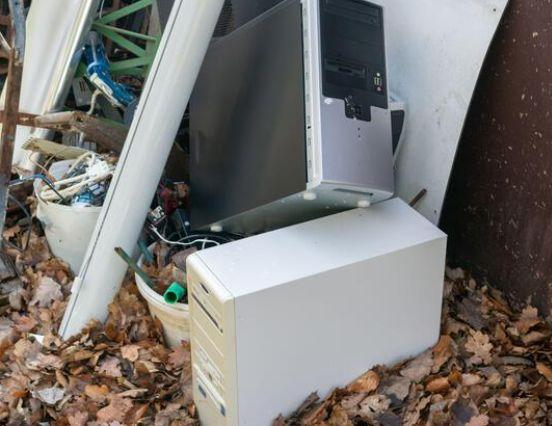electronic: (184, 196, 453, 426), (185, 0, 401, 235)
